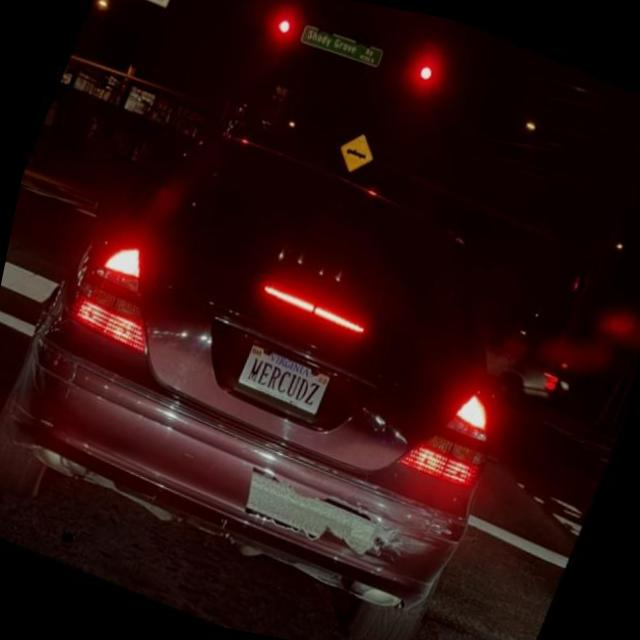LicensePlate: (230, 339, 334, 425)
